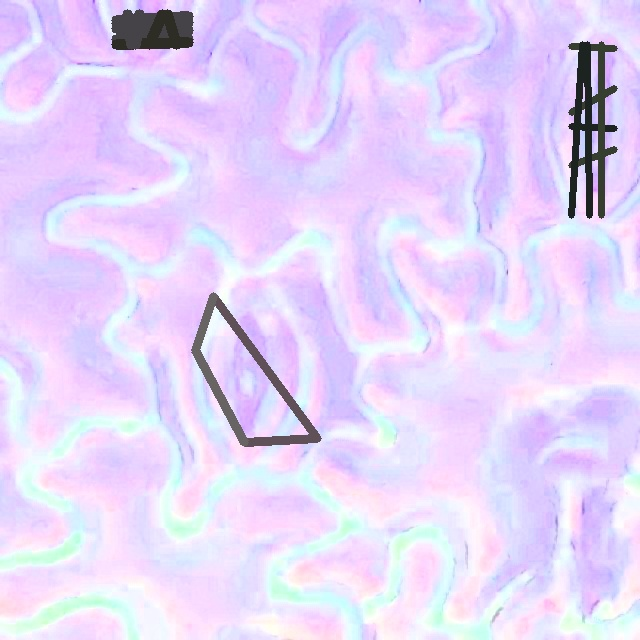open: (191, 292, 321, 446), (568, 41, 617, 218), (111, 10, 193, 49)
